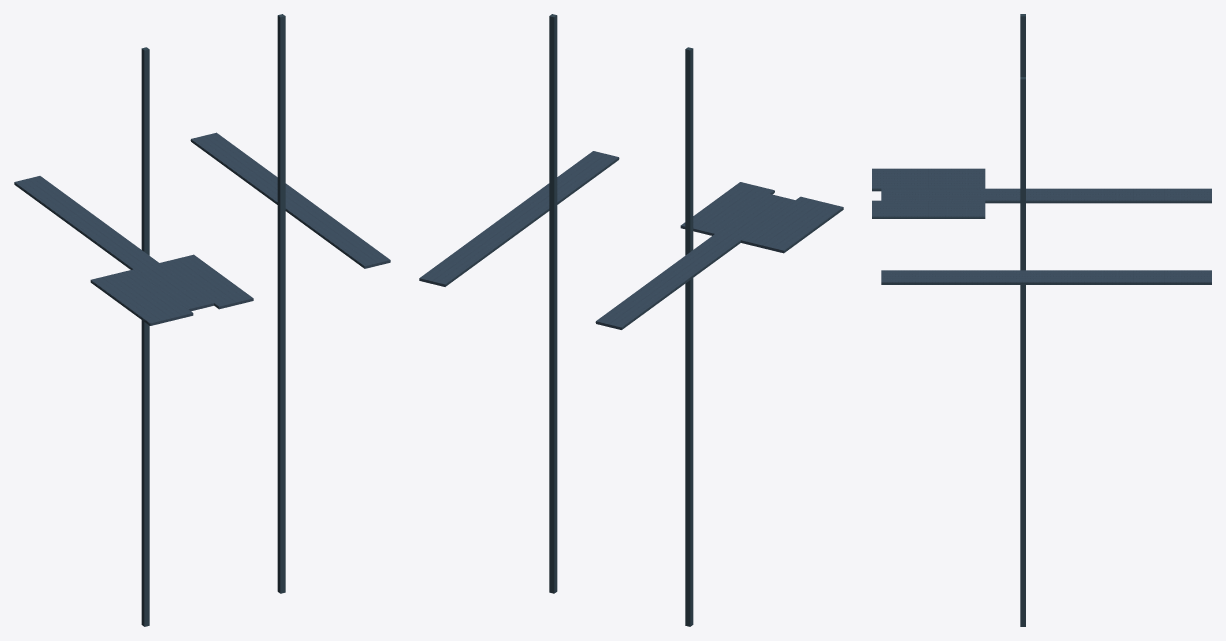
Rendered from v02-detailed-02-04-coffered.glb.
3 views of the same model, side by side, from view 1: azimuth 30°, elevation 25°; view 2: azimuth 150°, elevation 25°; view 3: azimuth 270°, elevation 25° (orthographic). The views are drawn at different scales.
Parts seen in each view (by area): view 1: v02-detailed-02-04-coffered; view 2: v02-detailed-02-04-coffered; view 3: v02-detailed-02-04-coffered.
Part boxes in pixels (x1,y1,x2,y2): v02-detailed-02-04-coffered: (14, 14, 390, 626); v02-detailed-02-04-coffered: (419, 14, 843, 626); v02-detailed-02-04-coffered: (872, 14, 1211, 626).
Bounding box in the file's own units: 57.1 × 128 × 72.
3 materials, 1 textured.
